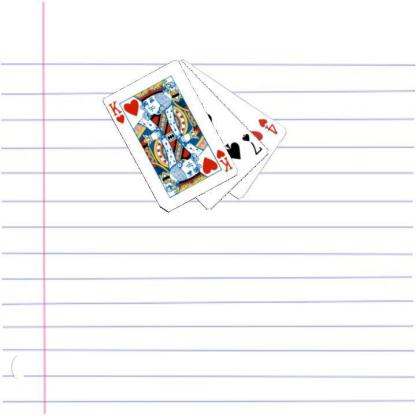4H: (255, 116, 279, 136)
7S: (239, 131, 264, 156)
KH: (106, 98, 126, 126), (214, 147, 234, 173)
